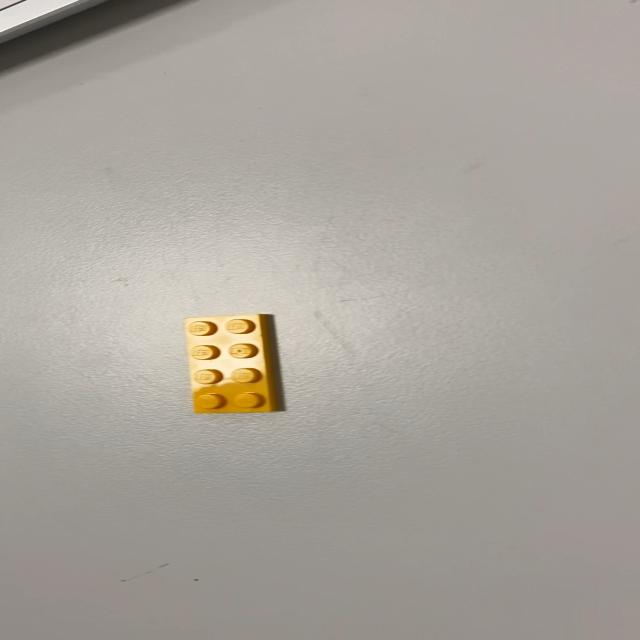C4x2x0: (182, 313, 278, 414)
